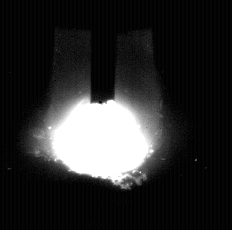arame: (91, 0, 116, 104)
poca: (44, 0, 164, 230)
